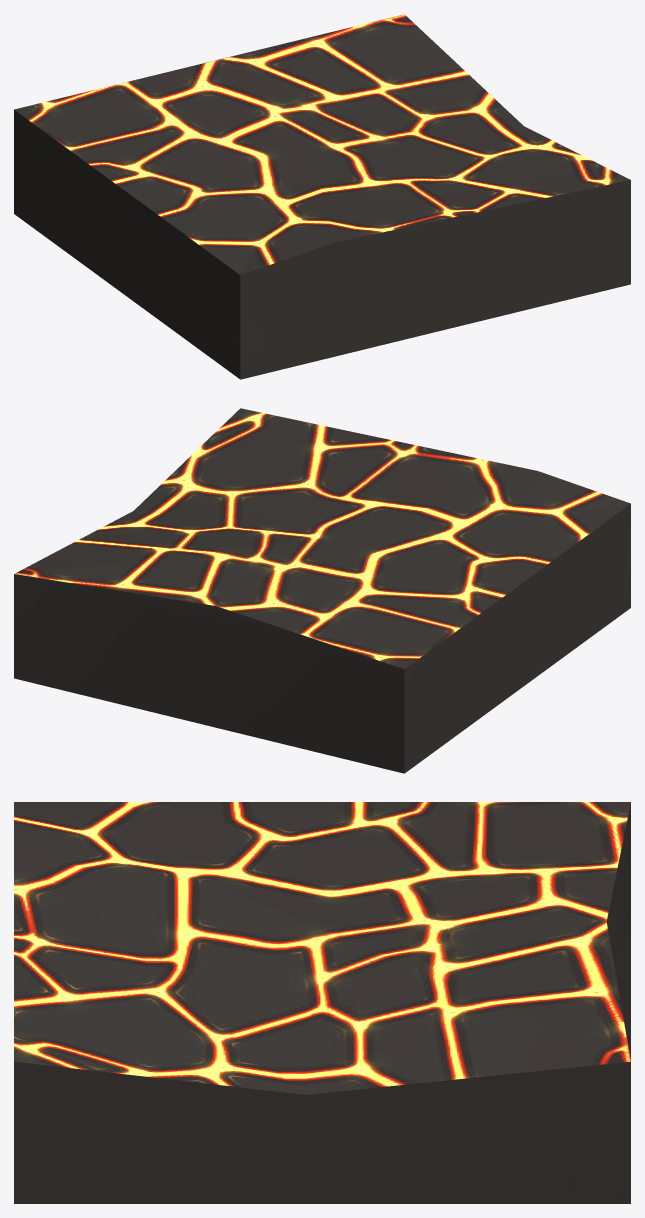
File: ETC0310010.fbx
The picture shows the model from 3 angles, top to bottom: view 1: azimuth 30°, elevation 25°; view 2: azimuth 150°, elevation 25°; view 3: azimuth 270°, elevation 25°; orthographic projection. The views are drawn at different scales.
Parts seen in each view (by area): view 1: smETC0310010; view 2: smETC0310010; view 3: smETC0310010.
Part boxes in pixels (x1,y1,x2,y2): smETC0310010: [14, 14, 630, 379]; smETC0310010: [14, 408, 630, 773]; smETC0310010: [14, 802, 630, 1203].
Bounding box in the file's own units: 135 × 37.63 × 135.
1 material, 1 textured.
